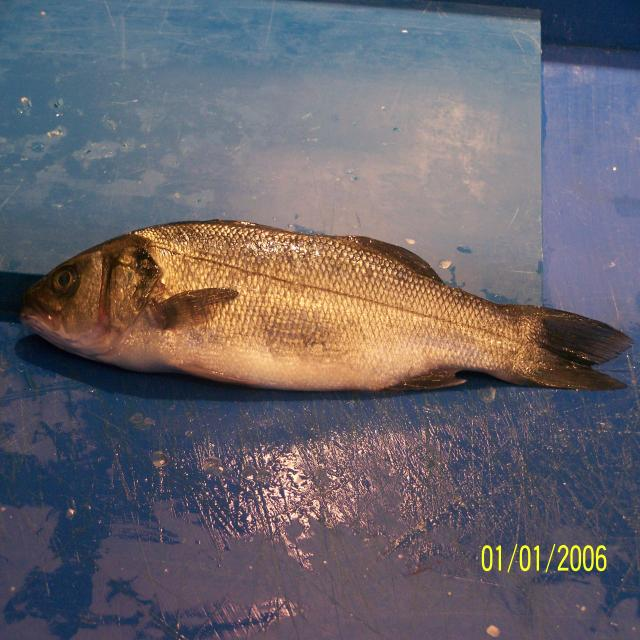Sea-Bass-levrek-: (19, 221, 631, 396)
